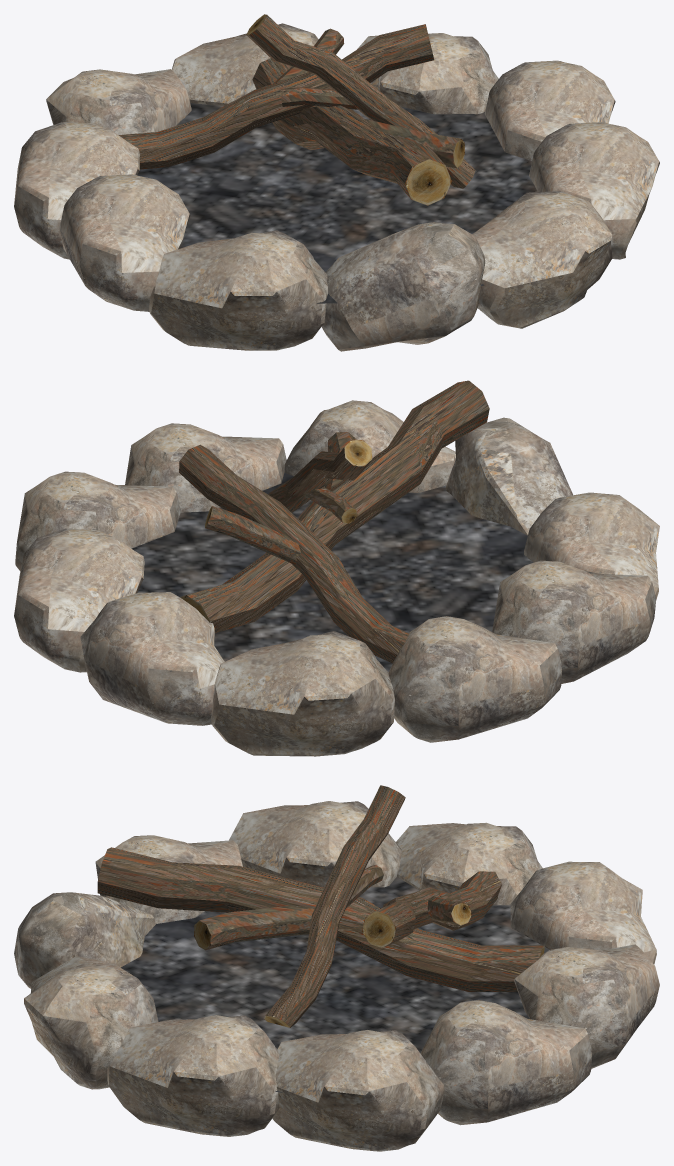
Rendered from campfire.glb.
3 views of the same model, one above another, from view 1: azimuth 30°, elevation 25°; view 2: azimuth 150°, elevation 25°; view 3: azimuth 270°, elevation 25° (orthographic). The views are drawn at different scales.
Visible parts, largest first — view 1: rocks, underbed, branches; view 2: rocks, branches, underbed; view 3: rocks, branches, underbed.
Boxes of the visible parts, x1,y1,x2,y2 form: rocks: (14,23,659,351); underbed: (137,103,537,303); branches: (118,14,475,205); rocks: (14,400,659,756); branches: (179,380,489,663); underbed: (132,472,533,695); rocks: (14,801,659,1151); branches: (97,785,544,1027); underbed: (120,877,549,1092).
Bounding box in the file's own units: 0.9666 × 0.3571 × 0.9371.
17 materials, 17 textured.
